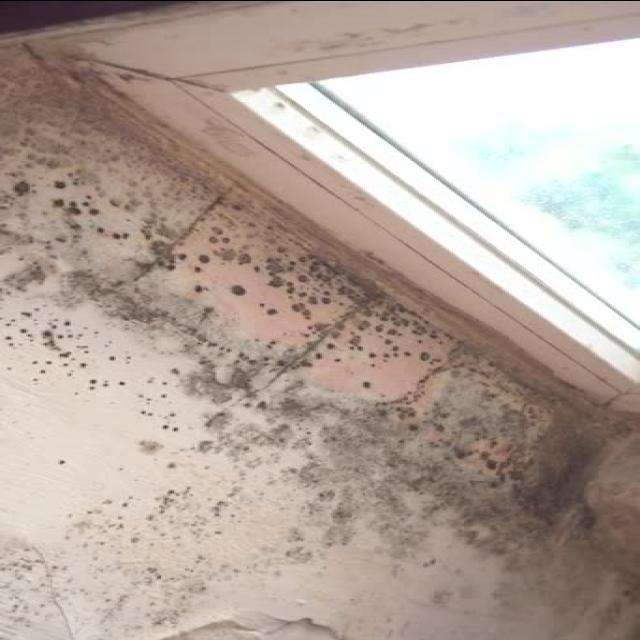Crack: (205, 281, 403, 414), (135, 183, 242, 280), (142, 603, 338, 640), (28, 542, 77, 640)
leak: (0, 45, 640, 640)
